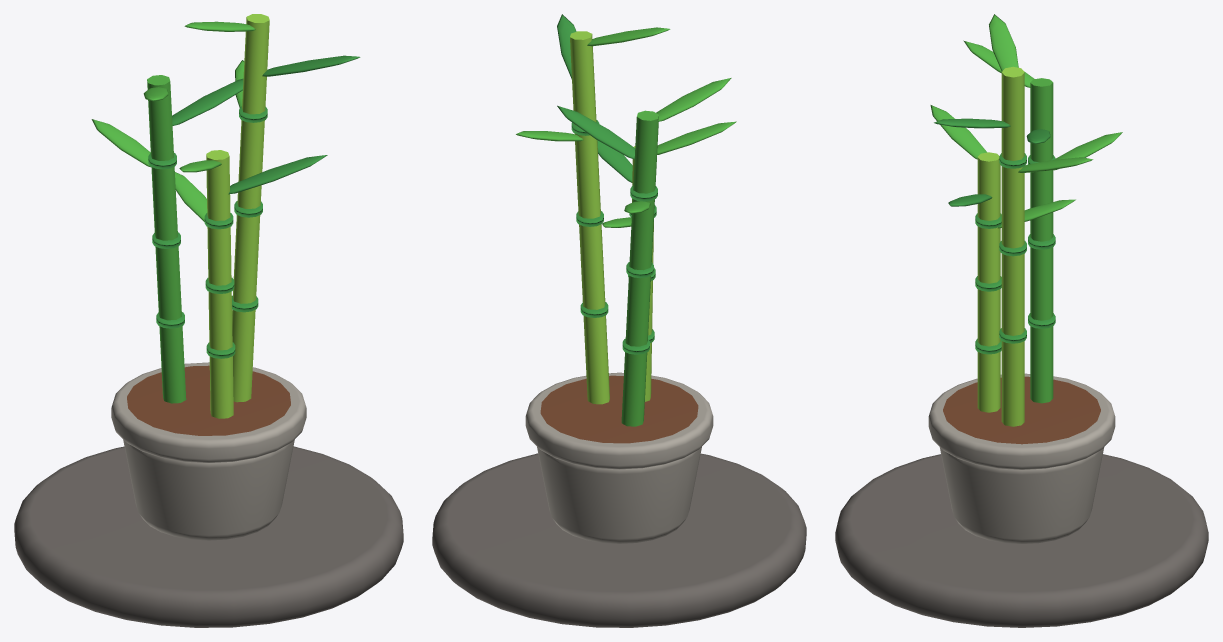
Rendered from DecorBamboo.fbx.
The picture shows the model from 3 angles, left to right: view 1: azimuth 30°, elevation 25°; view 2: azimuth 150°, elevation 25°; view 3: azimuth 270°, elevation 25°; orthographic projection. The views are drawn at different scales.
Visible parts, largest first — view 1: DecorBamboo mesh; view 2: DecorBamboo mesh; view 3: DecorBamboo mesh.
Part boxes in pixels (x1,y1,x2,y2): DecorBamboo mesh: (14, 14, 403, 627); DecorBamboo mesh: (432, 14, 806, 627); DecorBamboo mesh: (835, 14, 1208, 627).
Bounding box in the file's own units: 0.34 × 0.5242 × 0.34.
